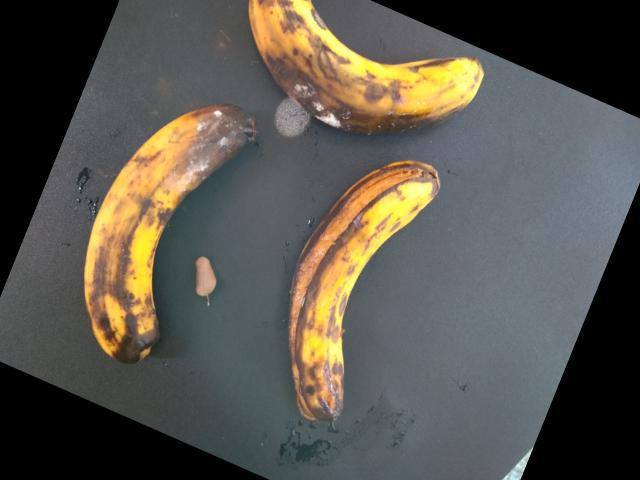rotten: (277, 147, 450, 426), (72, 105, 247, 348), (233, 0, 489, 135)
